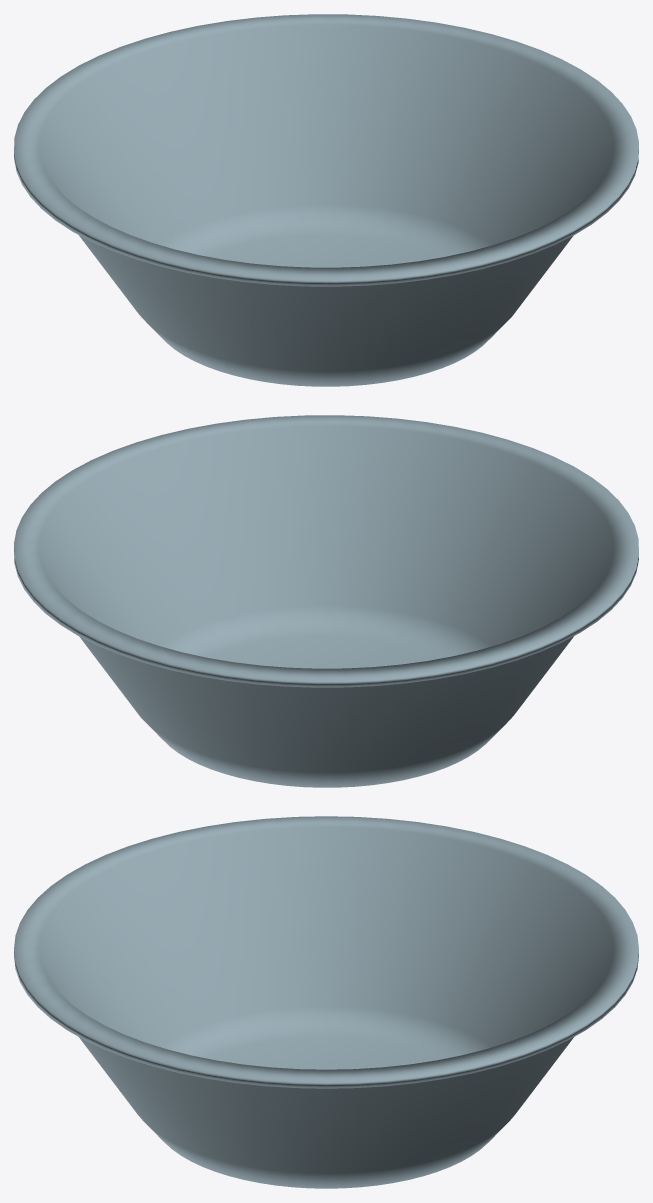
3 views of the same model, one above another, from view 1: azimuth 30°, elevation 25°; view 2: azimuth 150°, elevation 25°; view 3: azimuth 270°, elevation 25° (orthographic).
Visible parts, largest first — view 1: section_bowl; view 2: section_bowl; view 3: section_bowl.
Boxes of the visible parts, x1,y1,x2,y2 form: section_bowl: [14, 14, 638, 386]; section_bowl: [14, 415, 638, 787]; section_bowl: [14, 816, 638, 1188].
Bounding box in the file's own units: 0.136 × 0.04 × 0.136.
